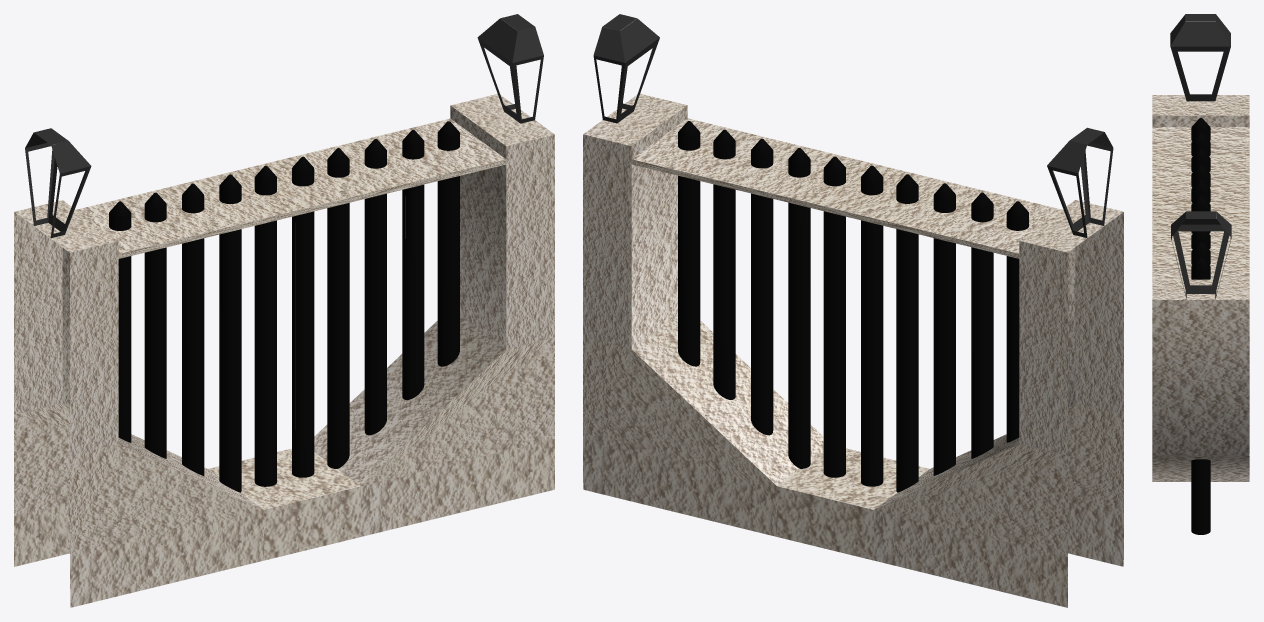
File: fencepostbetauv.fbx
3 views of the same model, side by side, from view 1: azimuth 30°, elevation 25°; view 2: azimuth 150°, elevation 25°; view 3: azimuth 270°, elevation 25° (orthographic). The views are drawn at different scales.
Visible parts, largest first — view 1: fencepostendbeta:pCube10; view 2: fencepostendbeta:pCube10; view 3: fencepostendbeta:pCube10.
Boxes of the visible parts, x1=… form: fencepostendbeta:pCube10: x1=14, y1=14, x2=554, y2=607; fencepostendbeta:pCube10: x1=583, y1=14, x2=1123, y2=607; fencepostendbeta:pCube10: x1=1152, y1=14, x2=1249, y2=534.
Bounding box in the file's own units: 5 × 4.42 × 1.
